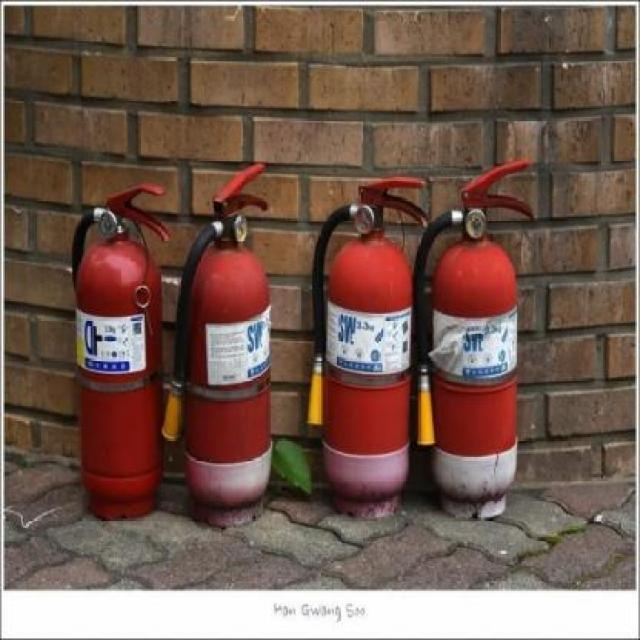fire extinguisher: (413, 158, 535, 518), (306, 177, 429, 520), (161, 163, 274, 525), (72, 183, 172, 520)
